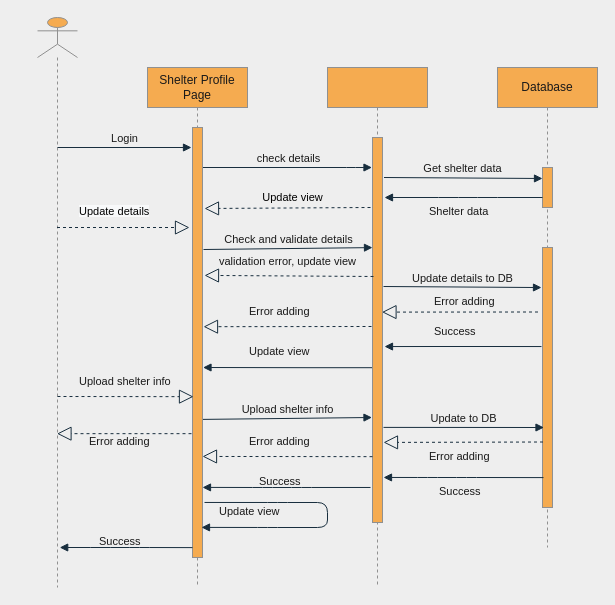
The diagram is 615 pixels wide and 605 high, and some of its shapes have lost their labels. Here are the shapes that lost their labels. From the top down, the box of each, then its label:
(36, 16, 78, 588): Shelter Staff
(326, 66, 428, 588): Backend
